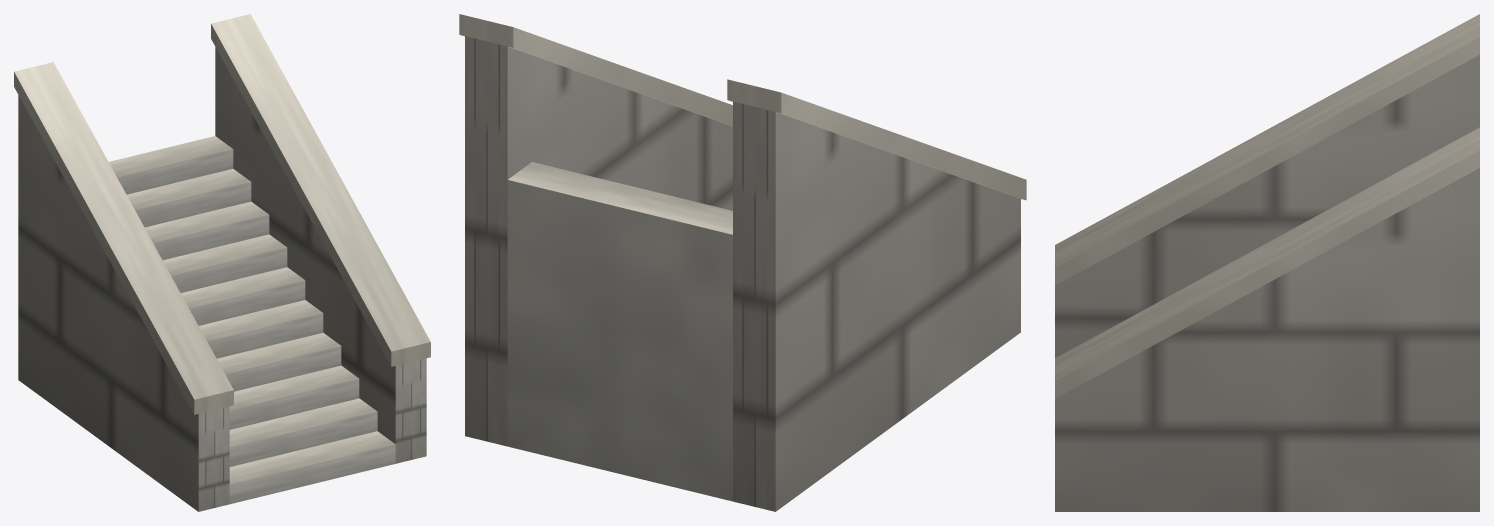
The model's file is stairs_stone_18_01.glb.
3 views of the same model, side by side, from view 1: azimuth 30°, elevation 25°; view 2: azimuth 150°, elevation 25°; view 3: azimuth 270°, elevation 25° (orthographic). The views are drawn at different scales.
Visible parts, largest first — view 1: stairs_stone_18_01; view 2: stairs_stone_18_01; view 3: stairs_stone_18_01.
Part boxes in pixels (x1,y1,x2,y2): stairs_stone_18_01: (14,14,430,511); stairs_stone_18_01: (459,14,1026,511); stairs_stone_18_01: (1055,14,1479,511).
Bounding box in the file's own units: 2.27 × 2.84 × 3.
1 material, 1 textured.
